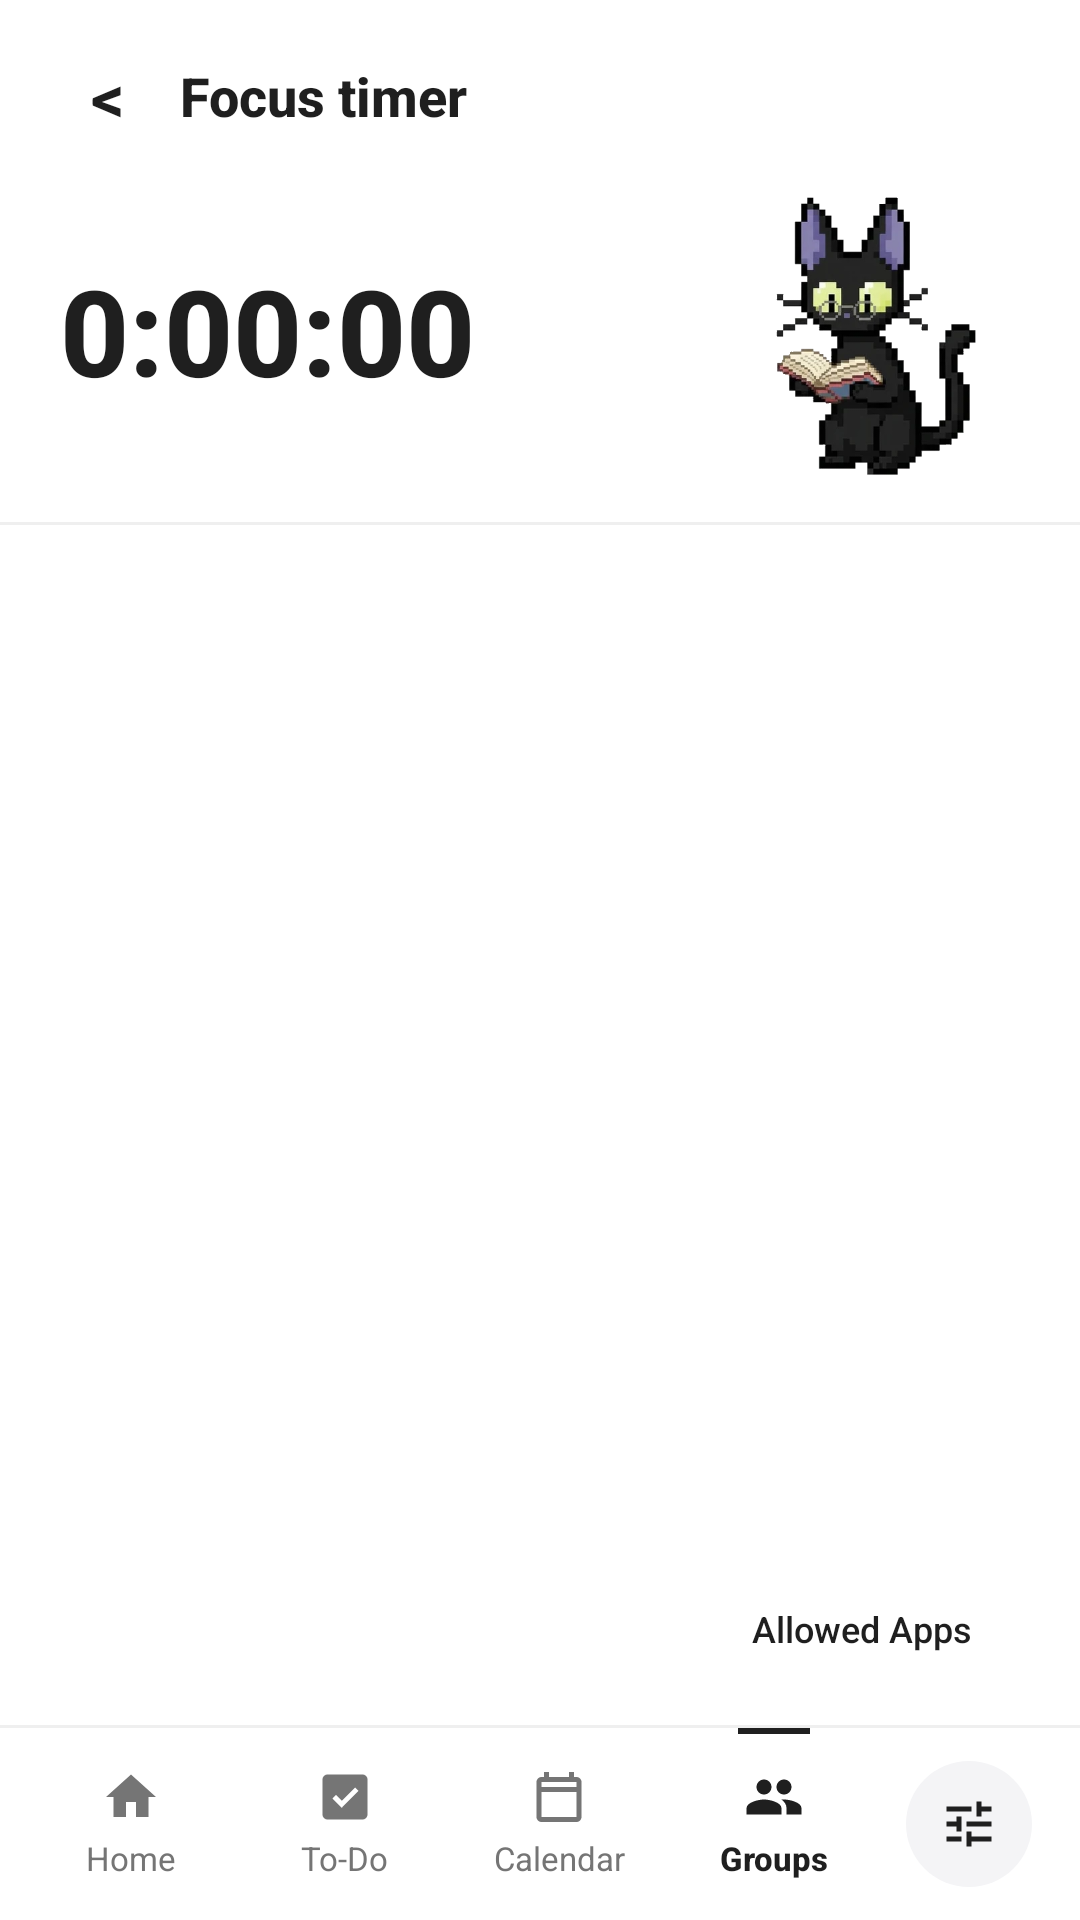

Where to tap for icons on this 1080x1920 app screen, as point (x, y):
Ganti Maskot Kucing: point (876, 336)
Pengaturan: point (969, 1824)
